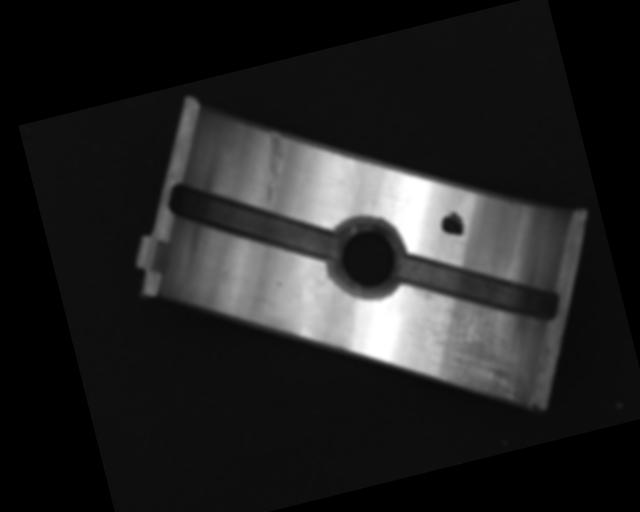blot: (437, 208, 467, 241)
bruise: (273, 275, 283, 289)
gap: (166, 152, 341, 294), (394, 223, 563, 352)
hole: (320, 211, 412, 308)
nick: (251, 127, 297, 203)
scratch: (412, 286, 540, 419)
